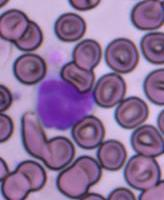M: (34, 72, 96, 130)
